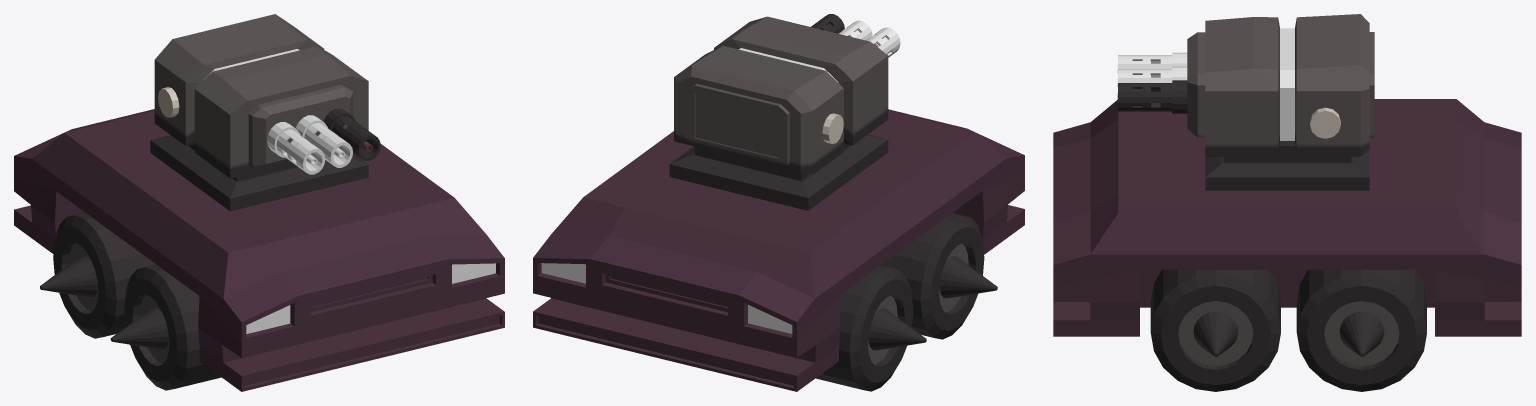
The model's file is TripleGunCar.fbx.
3 renders of one model, left to right at view 1: azimuth 30°, elevation 25°; view 2: azimuth 150°, elevation 25°; view 3: azimuth 270°, elevation 25°, orthographic. The views are drawn at different scales.
Visible parts, largest first — view 1: CarBaseSmall.002, Cube.006, Wheels.008, Wheels.007, Cube.005, Cylinder.011, Cylinder.009, Cylinder.010, Cylinder.012; view 2: CarBaseSmall.002, Cube.006, Wheels.007, Wheels.008, Cube.005, Cylinder.011, Cylinder.012, Cylinder.010, Cylinder.009; view 3: CarBaseSmall.002, Cube.006, Wheels.007, Wheels.008, Cube.005, Cylinder.009, Cylinder.010, Cylinder.011, Cylinder.012.
Boxes of the visible parts, x1,y1,x2,y2 form: CarBaseSmall.002: [14, 109, 504, 391]; Cube.006: [154, 14, 368, 178]; Wheels.008: [40, 212, 155, 338]; Wheels.007: [110, 264, 221, 390]; Cube.005: [150, 135, 368, 211]; Cylinder.011: [267, 122, 325, 174]; Cylinder.009: [323, 108, 380, 160]; Cylinder.010: [295, 115, 352, 167]; Cylinder.012: [158, 87, 179, 117]; CarBaseSmall.002: [533, 109, 1024, 391]; Cube.006: [674, 16, 888, 174]; Wheels.007: [882, 213, 997, 339]; Wheels.008: [816, 265, 926, 391]; Cube.005: [669, 134, 888, 210]; Cylinder.011: [866, 27, 900, 57]; Cylinder.012: [822, 113, 843, 143]; Cylinder.010: [838, 20, 872, 40]; Cylinder.009: [811, 14, 844, 33]; CarBaseSmall.002: [1053, 99, 1521, 336]; Cube.006: [1187, 14, 1374, 156]; Wheels.007: [1150, 269, 1280, 391]; Wheels.008: [1296, 269, 1426, 391]; Cube.005: [1205, 141, 1369, 190]; Cylinder.009: [1117, 80, 1187, 113]; Cylinder.010: [1117, 66, 1187, 86]; Cylinder.011: [1117, 52, 1187, 72]; Cylinder.012: [1310, 107, 1340, 138].
Bounding box in the file's own units: 3.2 × 2.3 × 3.45.
